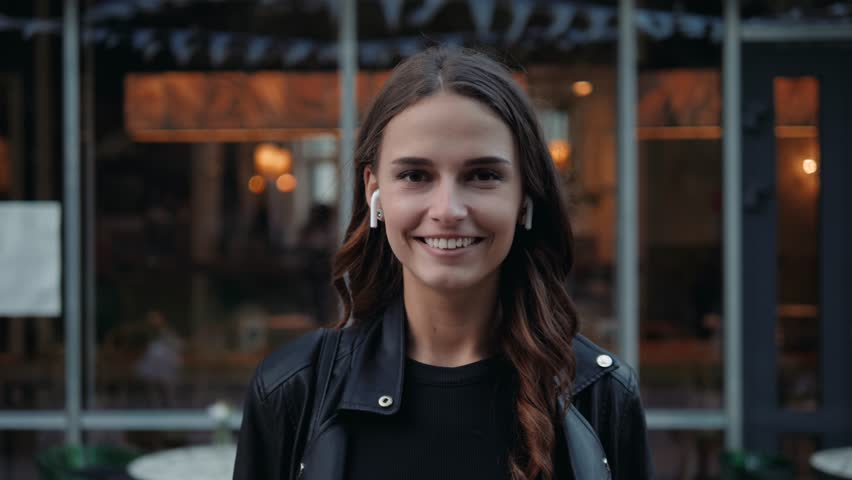earphone: (363, 166, 385, 228), (518, 183, 536, 230)
